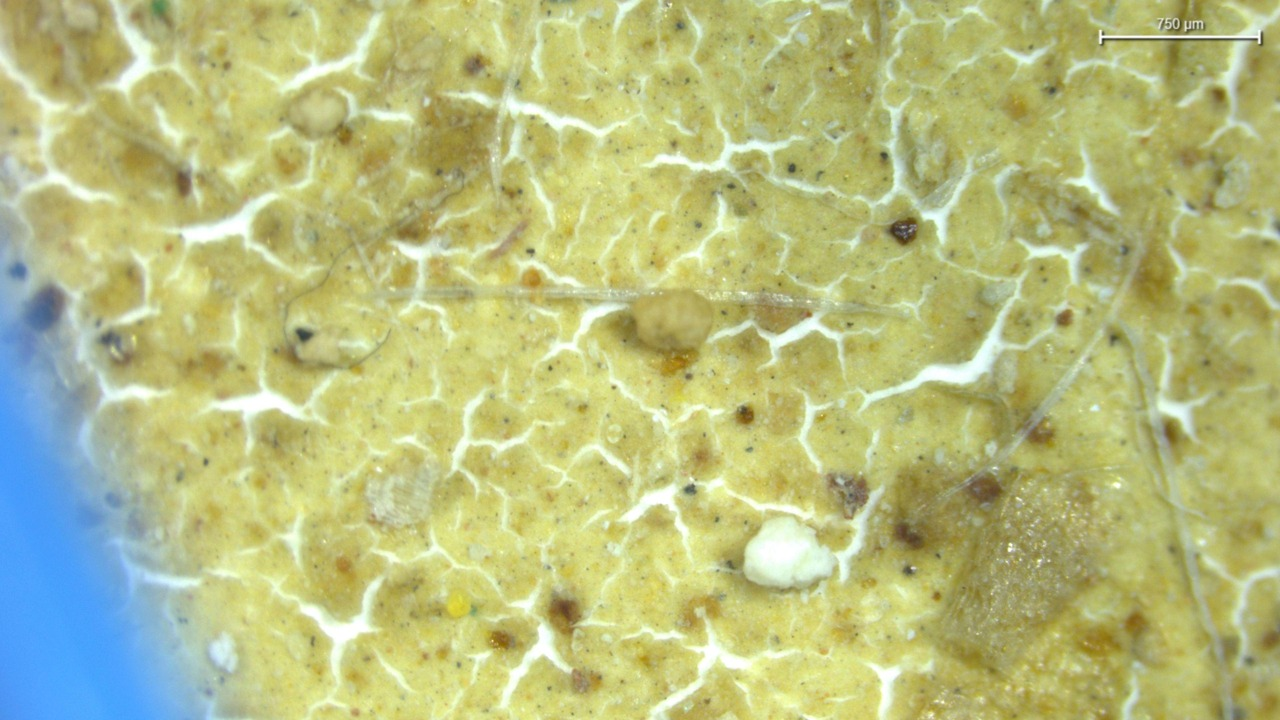microplastic_fragment: (742, 521, 835, 593), (629, 292, 716, 356), (209, 635, 238, 673)
